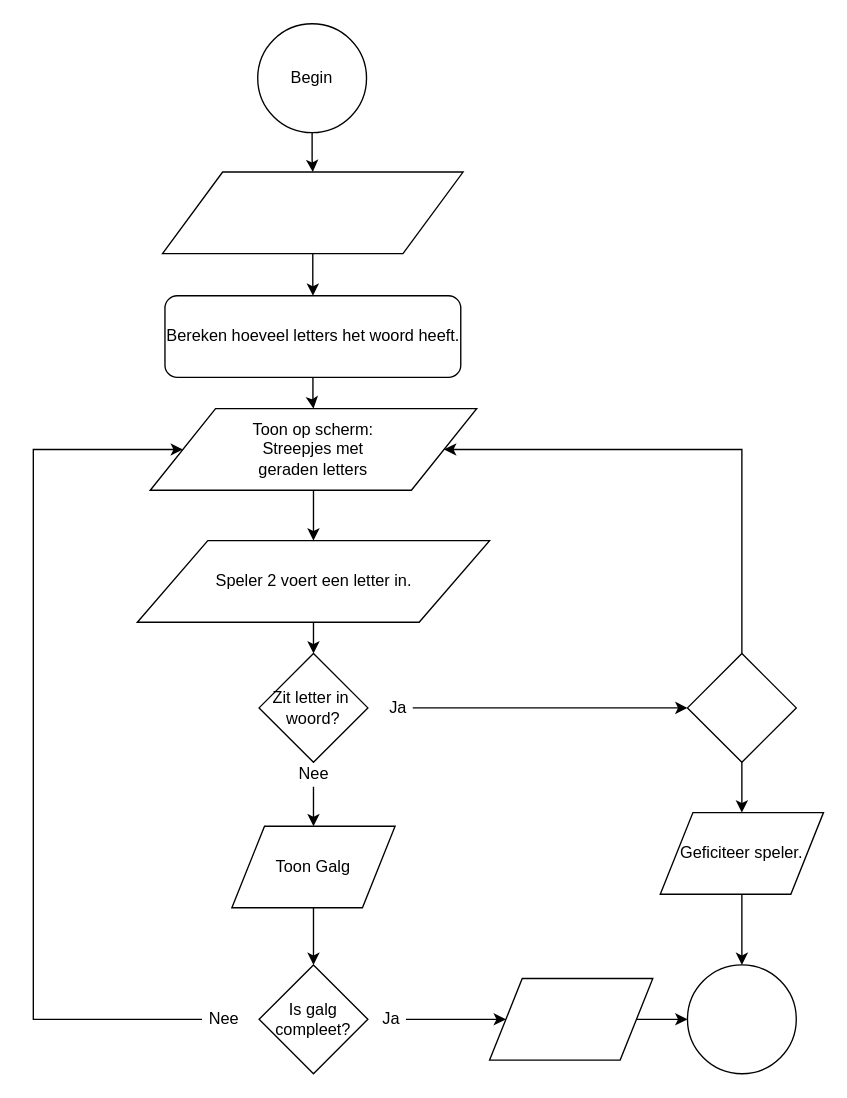
This 847x1098 diagram has some shape labels left out. The shapes that lost their labels are listed below. From the top down, each one's centre as x and y in pixels, then its label:
the point at 312,212: Speler 1 kiest woord
the point at 741,707: Is woord geraden?
the point at 570,1018: Toon speler Heeft verloren
the point at 741,1019: Einde
